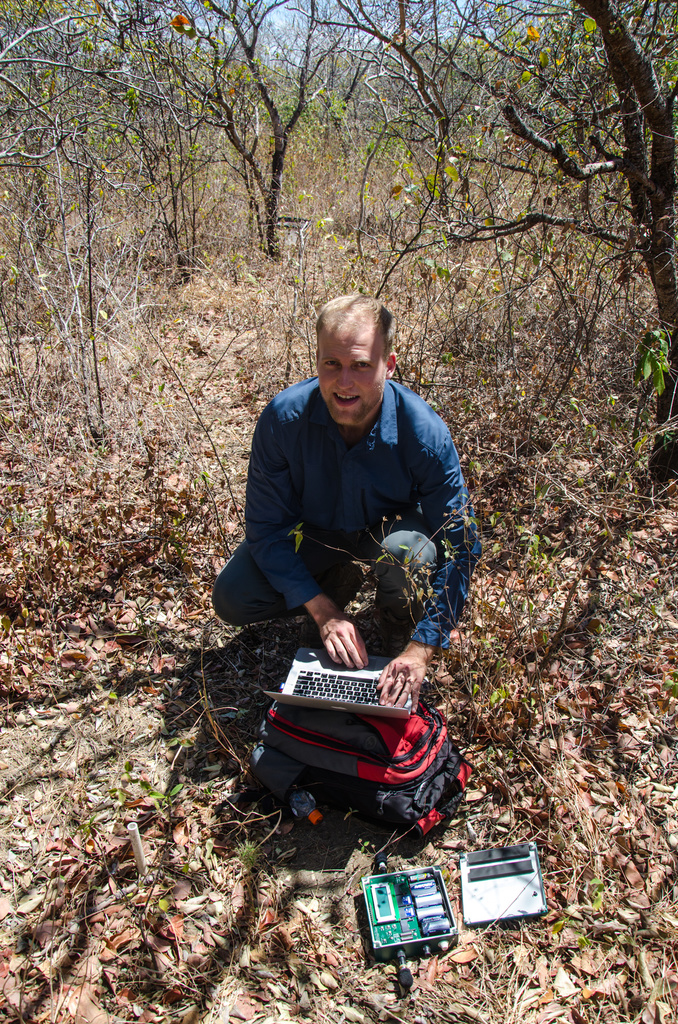Person: (211, 293, 482, 713)
